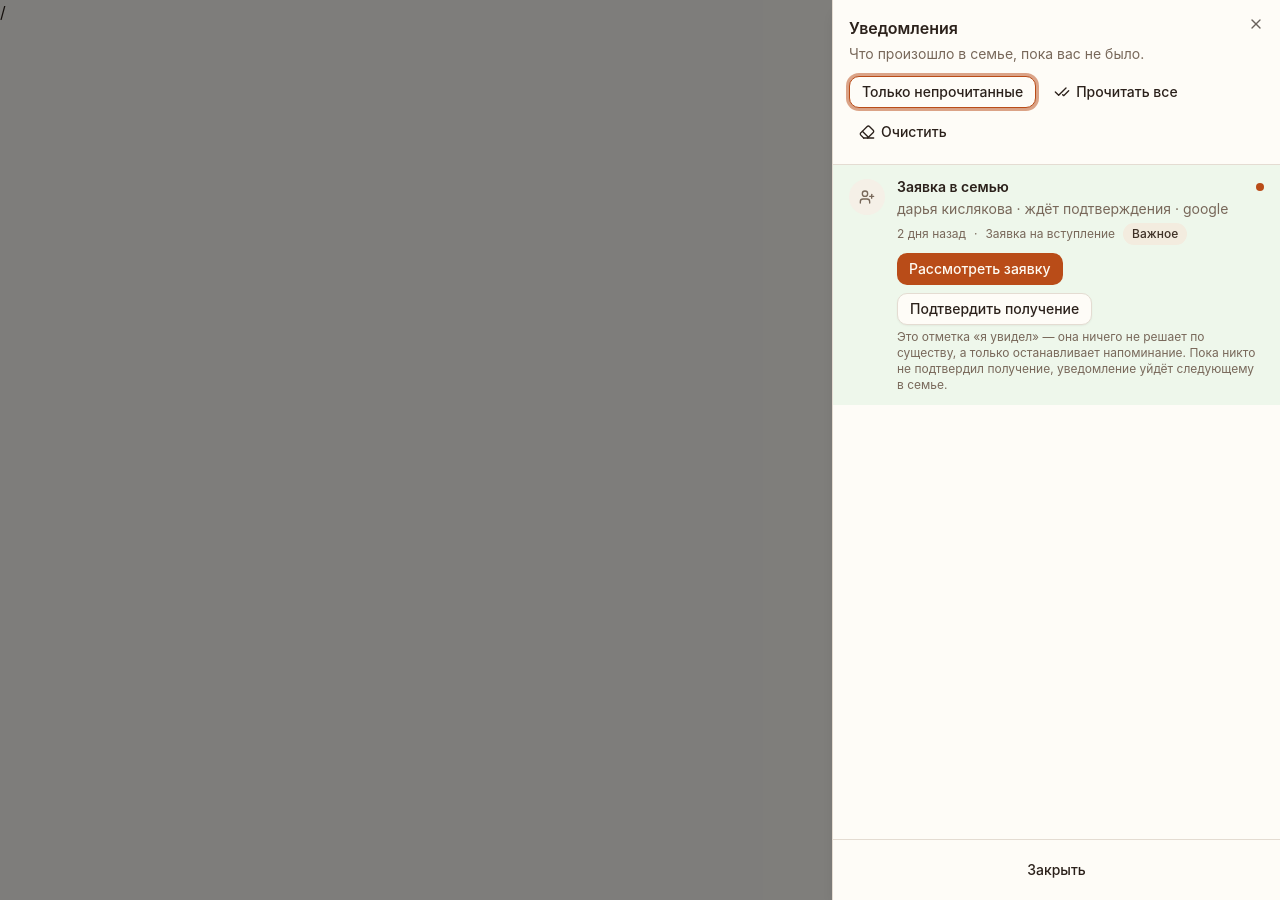
Test: «Заявка в семью» — deciding it, and never appearing to › leads with «Рассмотреть заявку», which opens the approval queue
Click the button "Рассмотреть заявку": coordinates (980, 269) [897,253,1062,285]
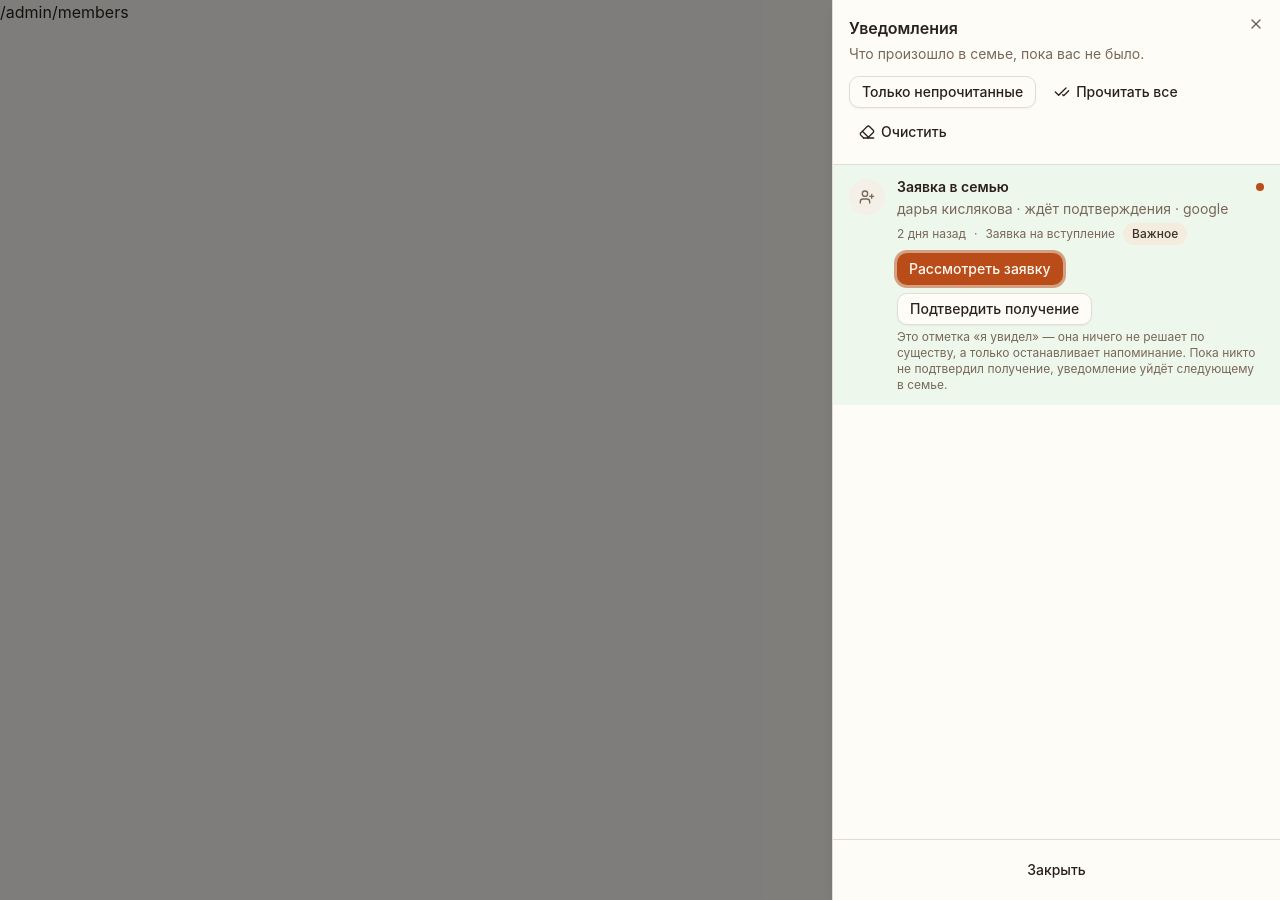
Expected: the text with test id "pathname" reads "/admin/members", [0,2,129,22]
